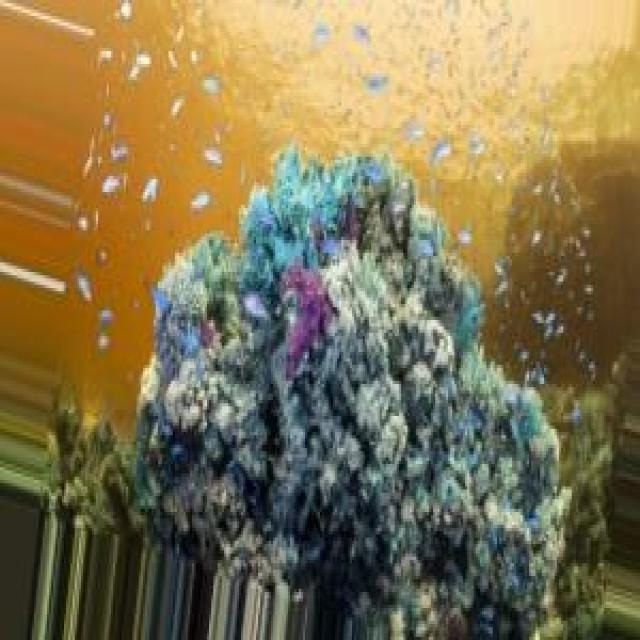Healthy: (125, 145, 603, 640)
